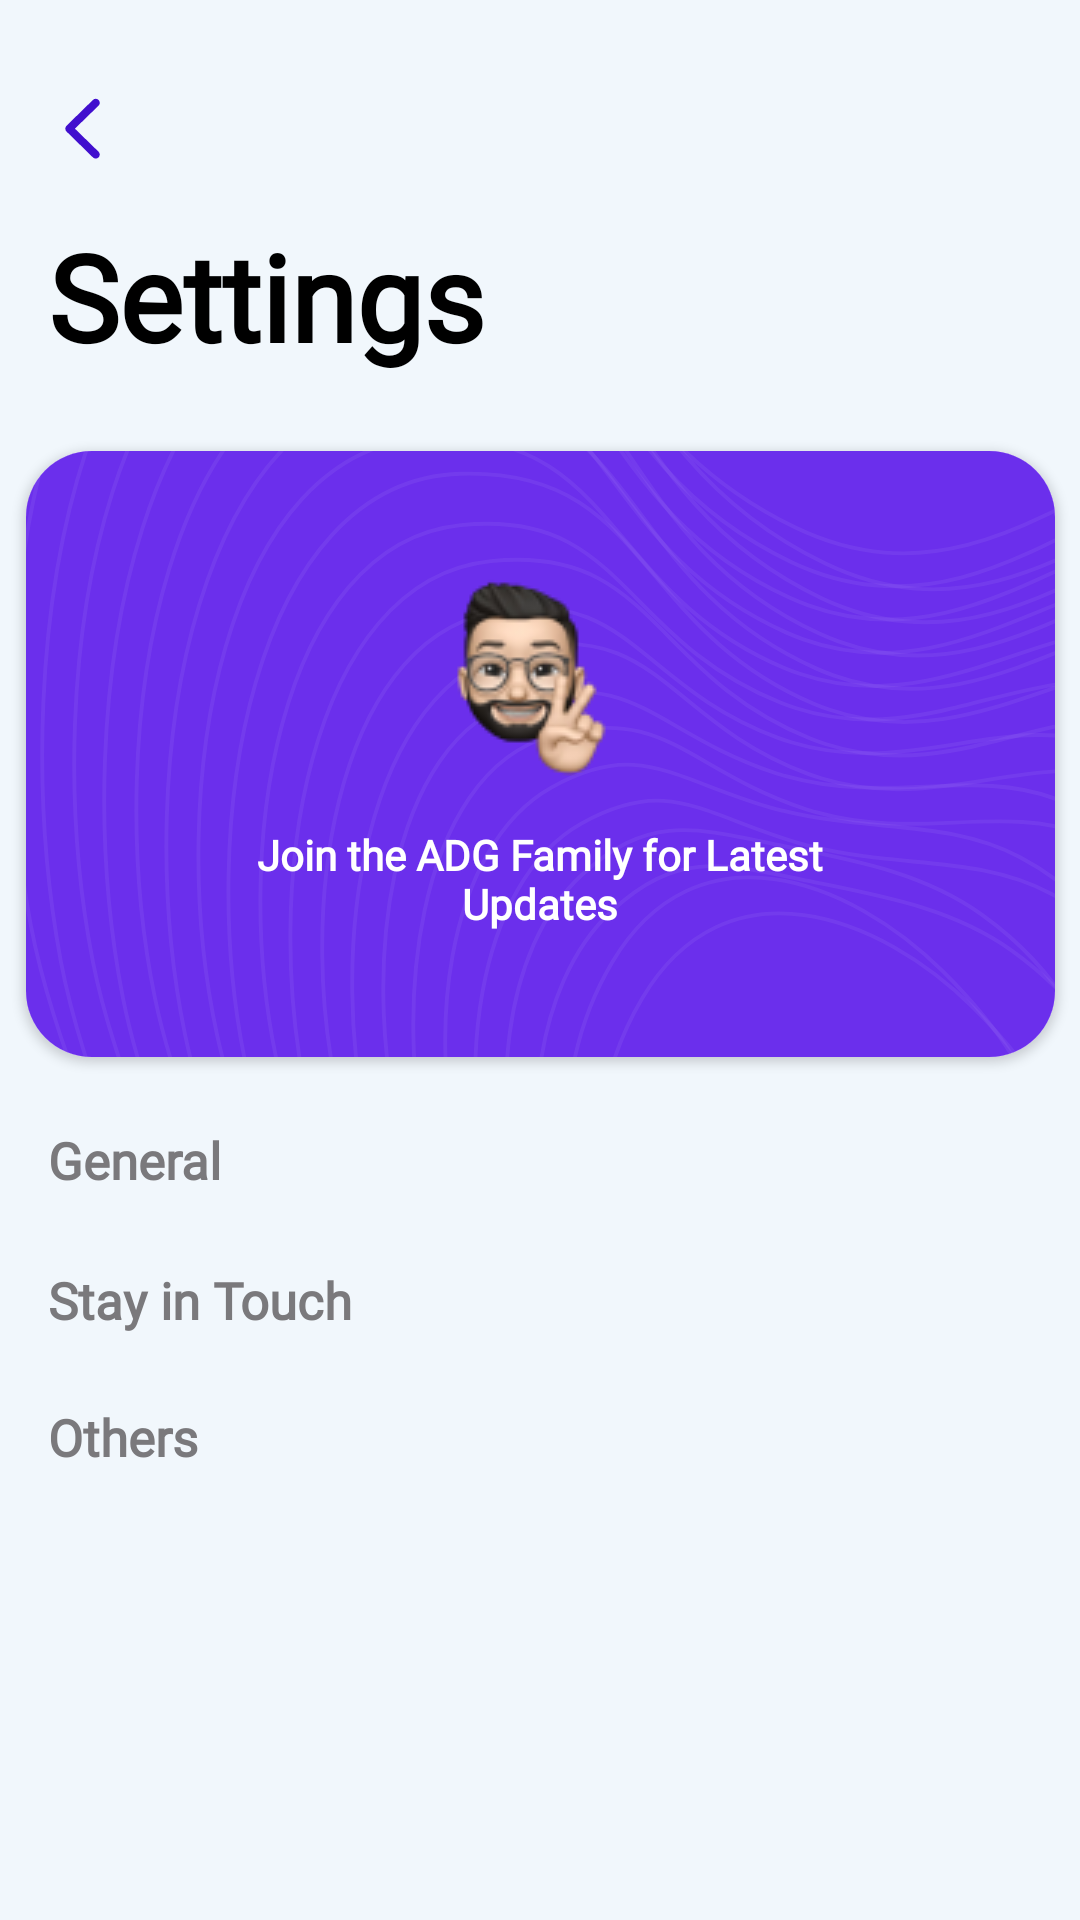

Point at icon controls on the screen. Image size 1080 × 1920, points as (x=x, y=y).
chevron left: (x=82, y=128)
